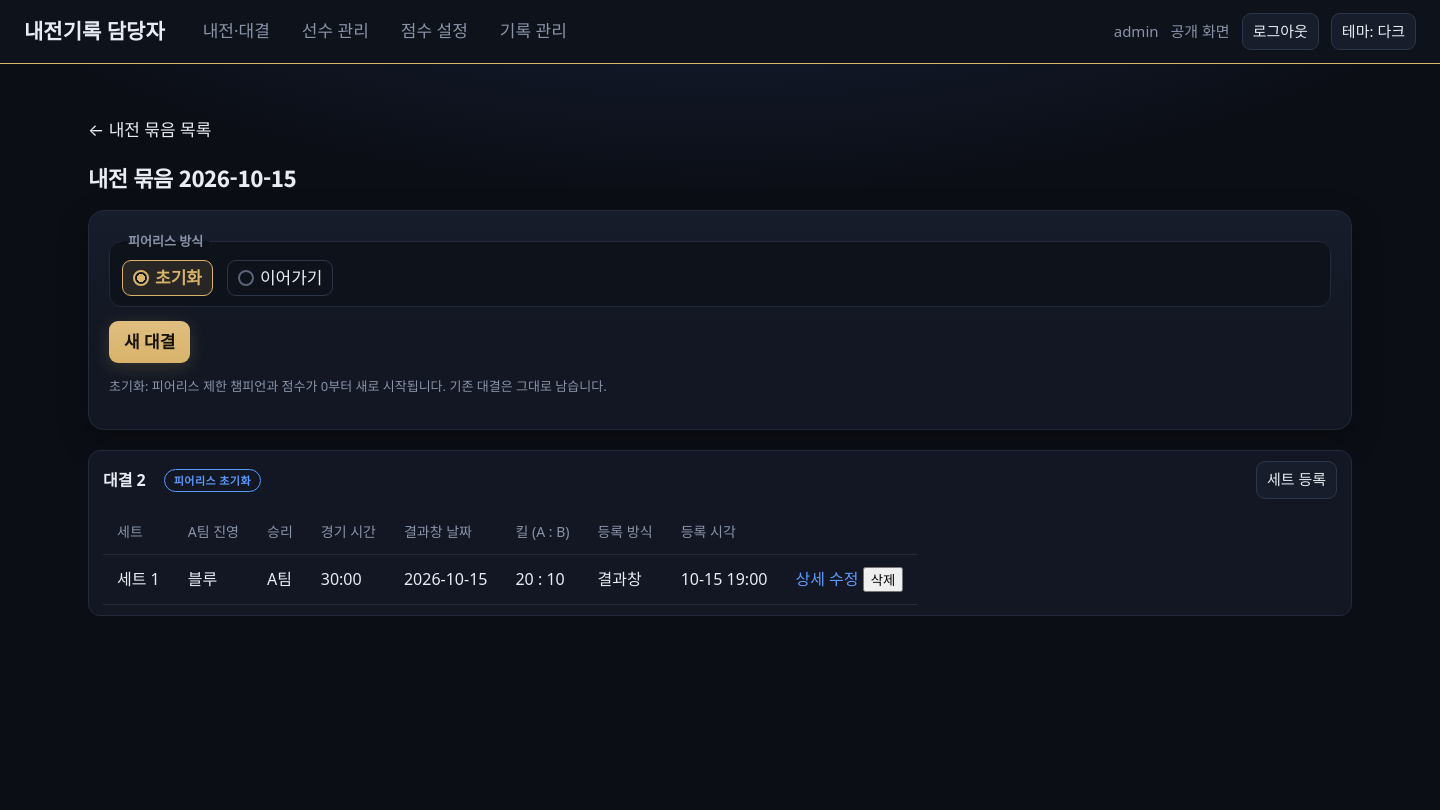
SessionDetailPage 세트 삭제·복구 › 삭제하면 DELETE 후 묶음 상세를 다시 불러온다
Click the button with aria-label "세트 1 삭제" at (883,580), box [863,567,903,592]
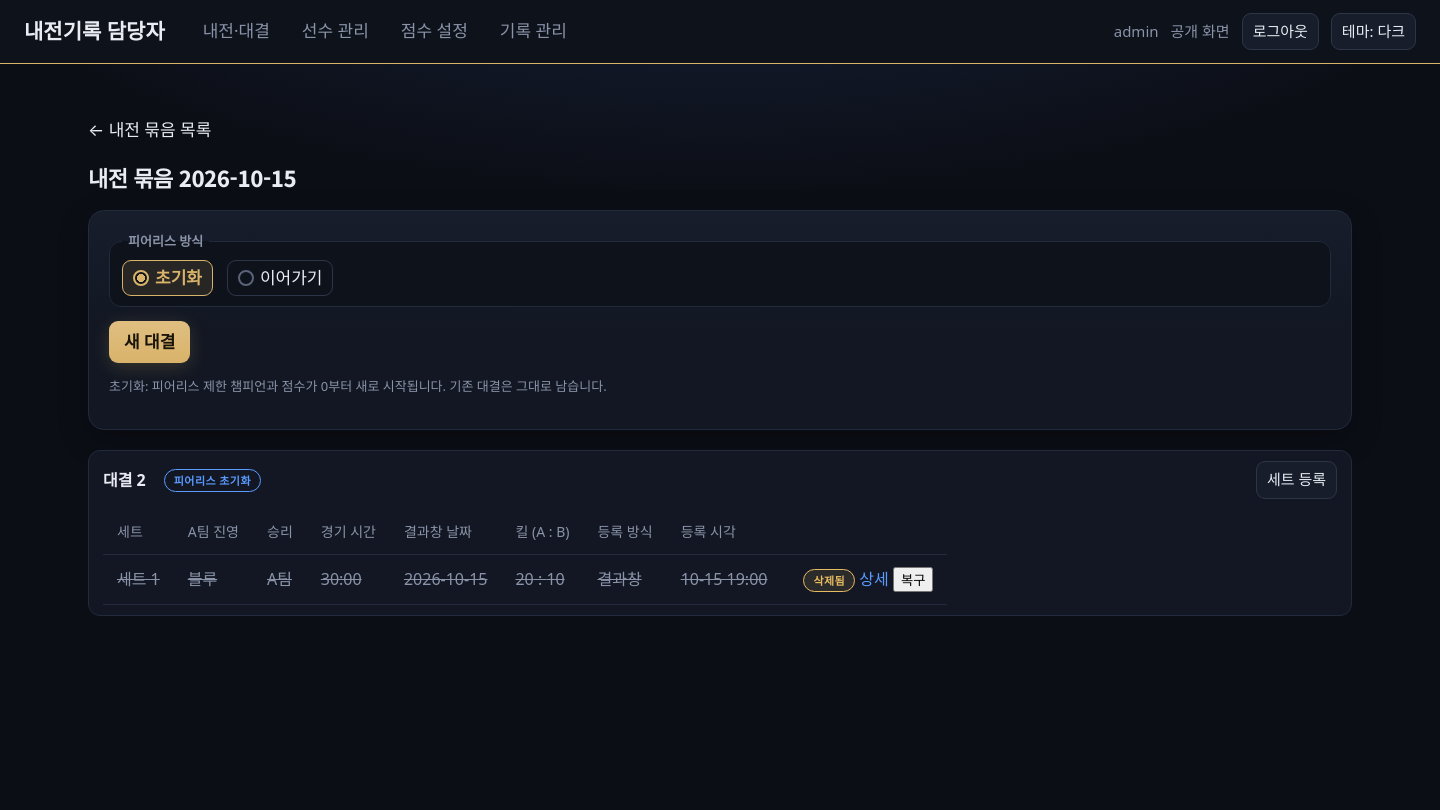
Result: the button with aria-label "세트 1 복구" is shown at [893,567,934,592]
